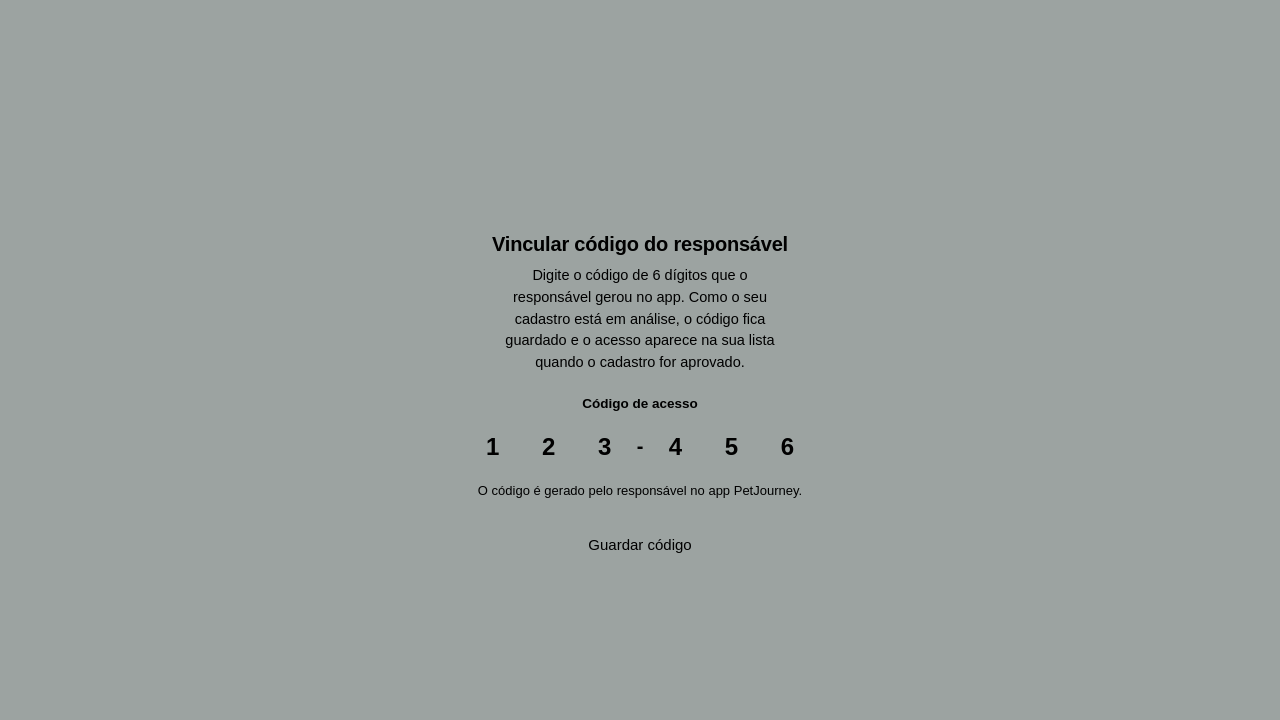
Scenario: 429 › teto de códigos guardados não manda esperar minutos: manda esperar a análise
The width and height of the screenshot is (1280, 720).
Click the button "Guardar código". click: (640, 545)
box: [452,522,828,568]
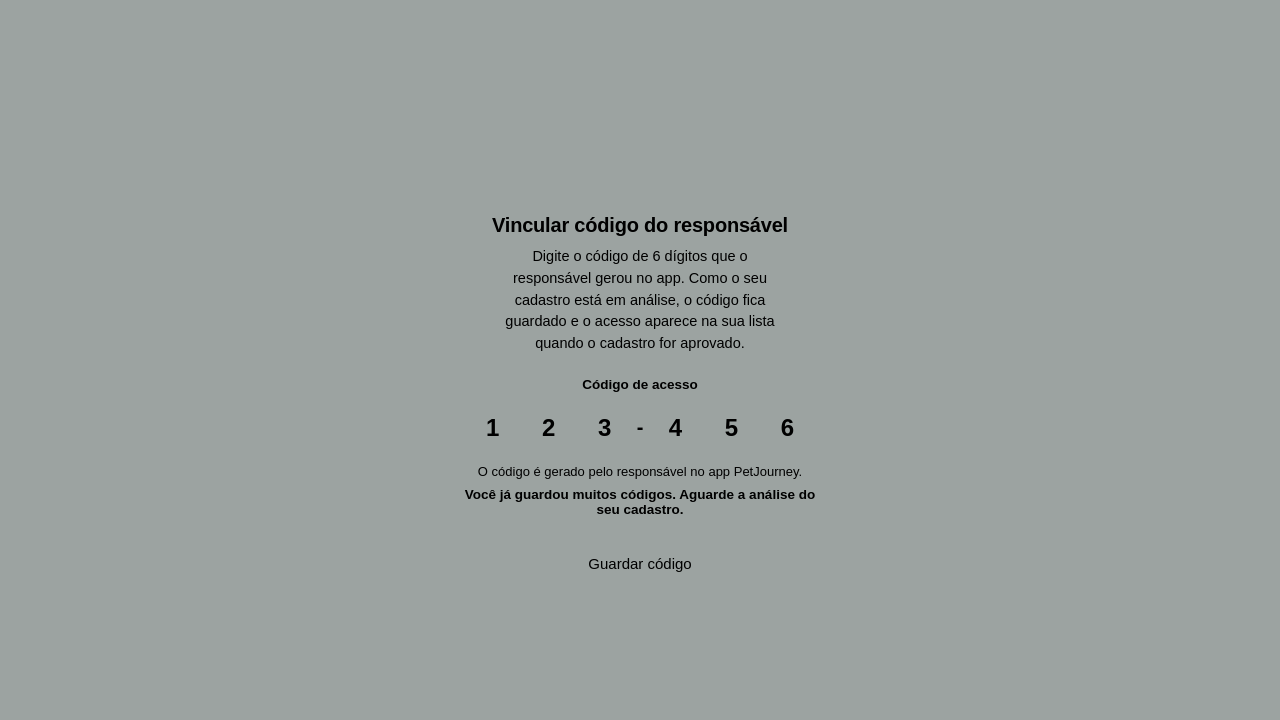
Check: the button "Guardar código" is enabled, box [452,541,828,587]
Check: the message "Você já guardou muitos códigos. Aguarde a análise do seu cadastro." is shown, box [452,487,828,517]
